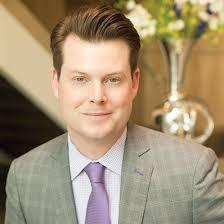normalEye: (67, 68, 125, 89)
normalMouth: (80, 108, 114, 122)
